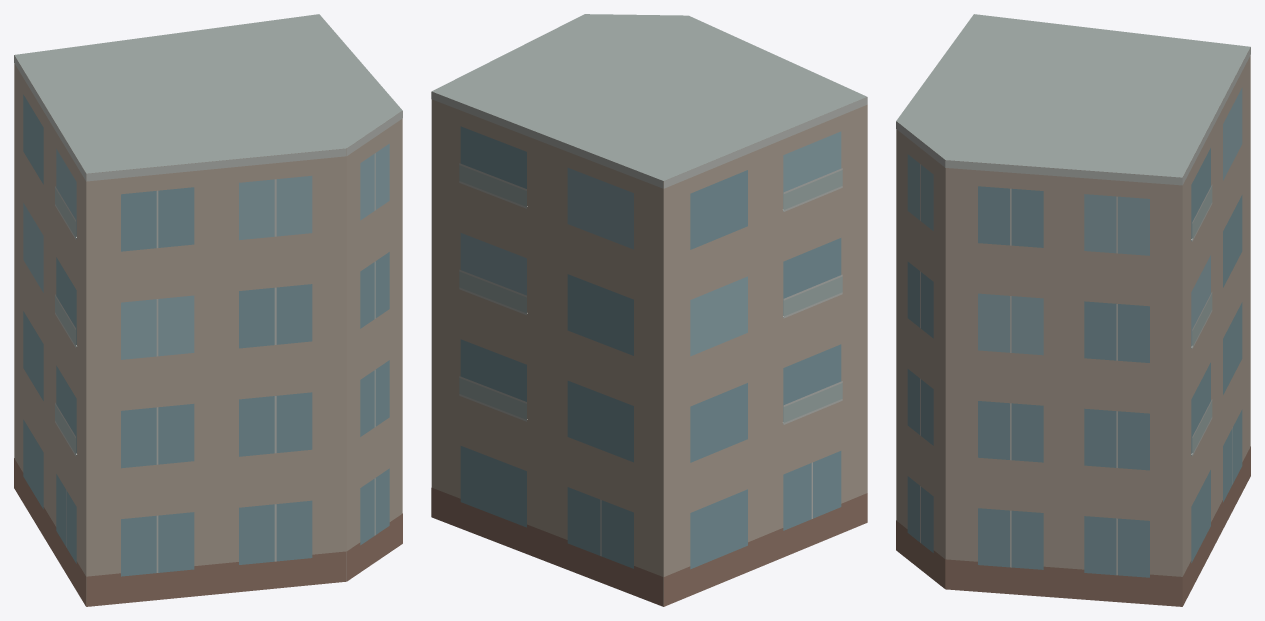
The model's file is survey-upis-32490637.glb.
The picture shows the model from 3 angles, left to right: view 1: azimuth 30°, elevation 25°; view 2: azimuth 150°, elevation 25°; view 3: azimuth 270°, elevation 25°; orthographic projection.
Visible parts, largest first — view 1: survey-upis-32490637.tmp; view 2: survey-upis-32490637.tmp; view 3: survey-upis-32490637.tmp.
Part boxes in pixels (x1=…): survey-upis-32490637.tmp: x1=14, y1=14, x2=402, y2=606; survey-upis-32490637.tmp: x1=431, y1=14, x2=867, y2=606; survey-upis-32490637.tmp: x1=896, y1=14, x2=1250, y2=606.
Size of the model in its own units: 10.95 by 13.39 by 10.04.
